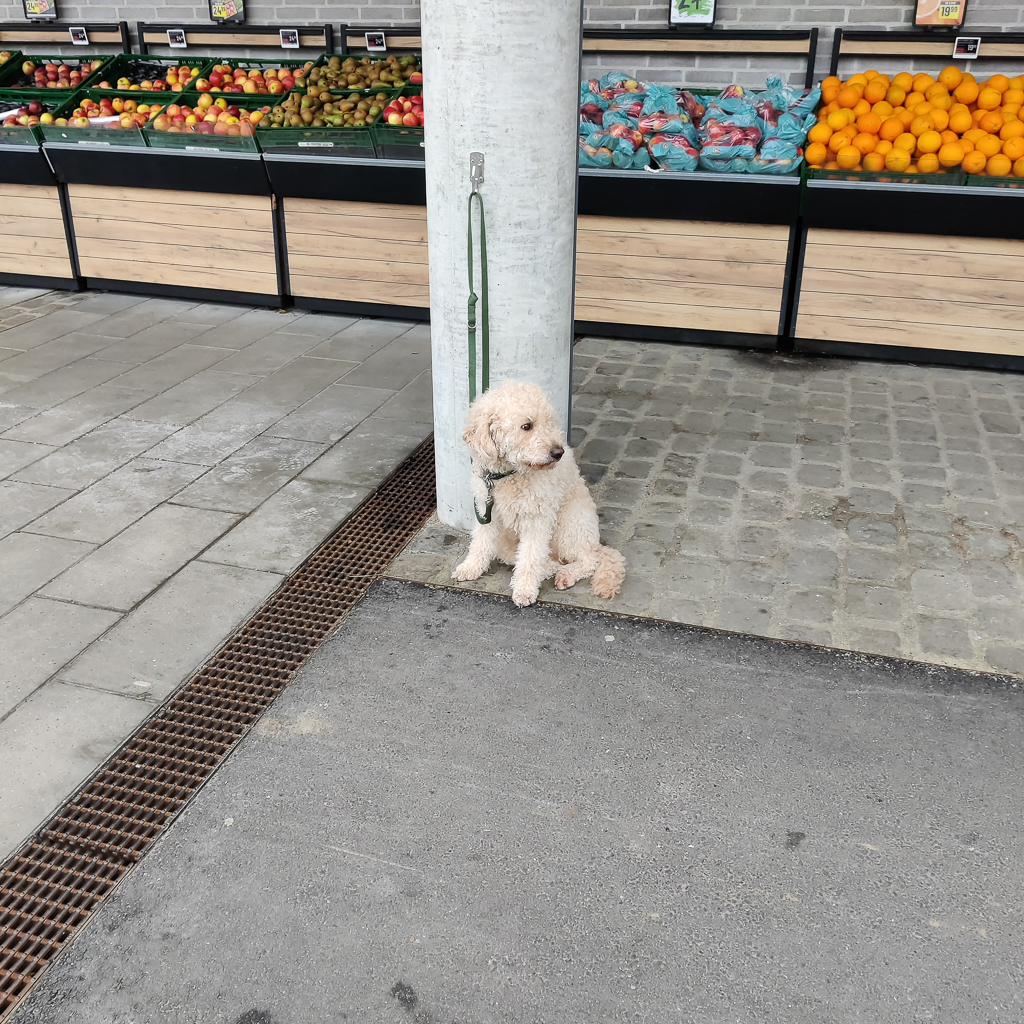Dog: (436, 369, 646, 624)
